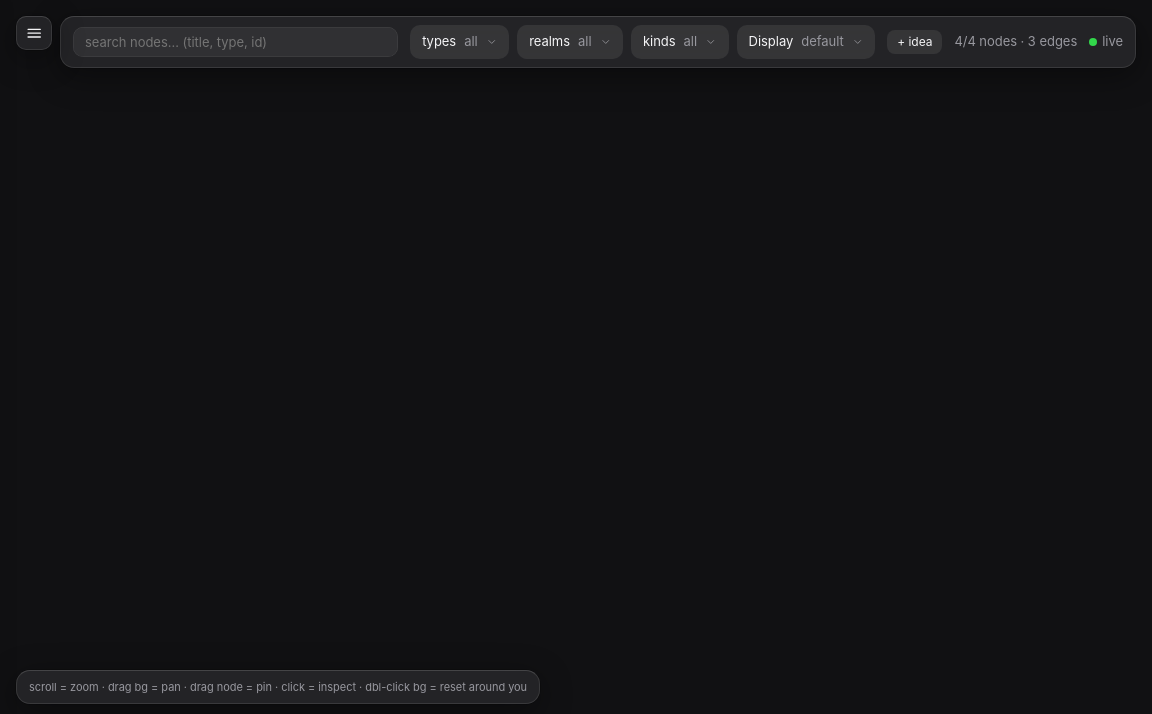
Scenario: the app shell › navigates between sections through the drawer
Expected: the text "4/4 nodes · 3 edges" is shown, [954, 32, 1077, 52]
Click the button named "sections" at (34, 33), box [16, 16, 52, 50]
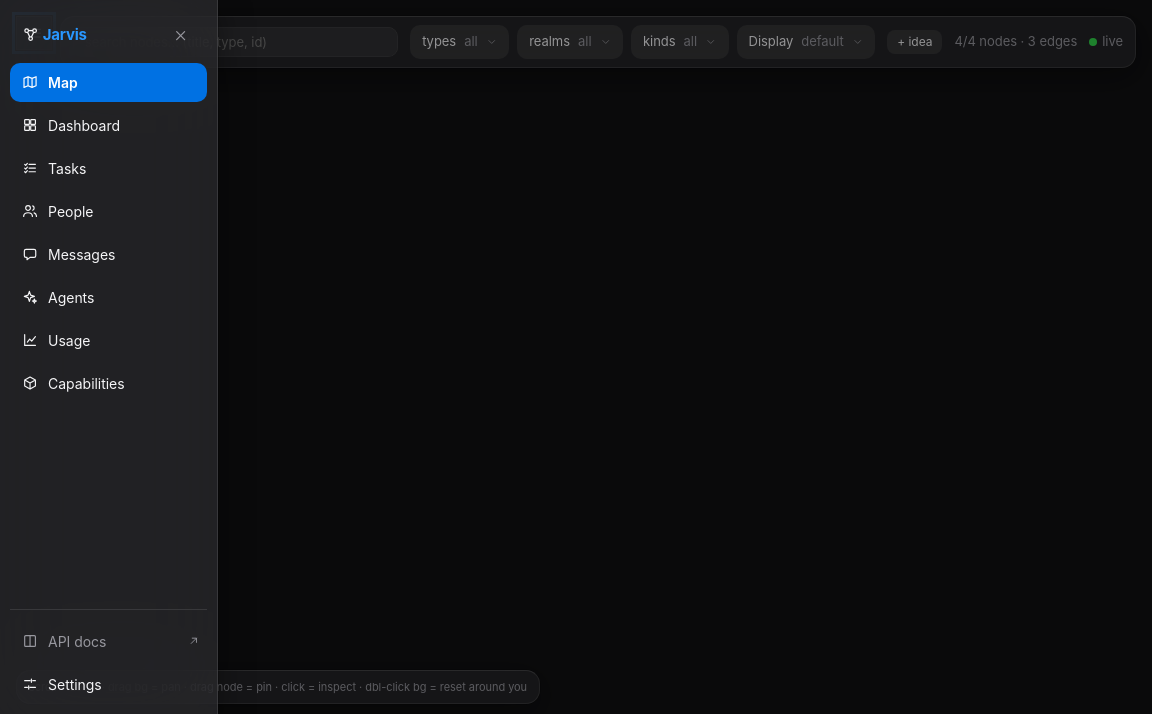
Click the link "Capabilities" at (73, 383), box [22, 374, 125, 392]
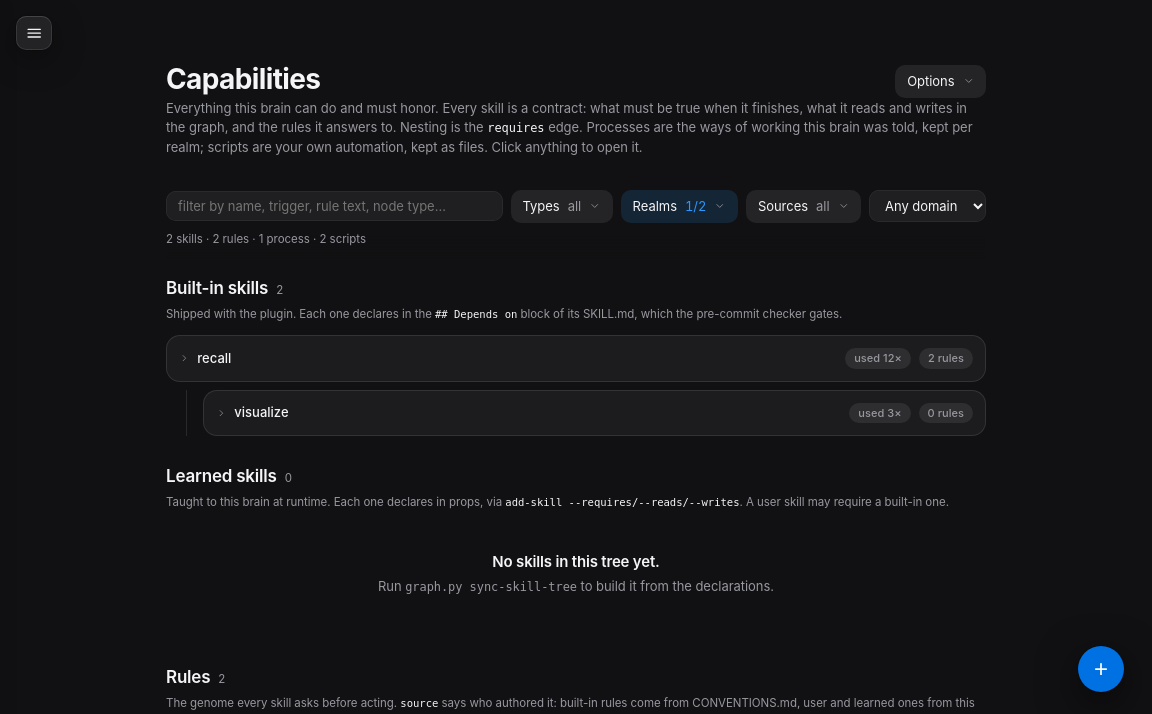
Result: the heading "Capabilities" is shown at [166, 64, 320, 95]
